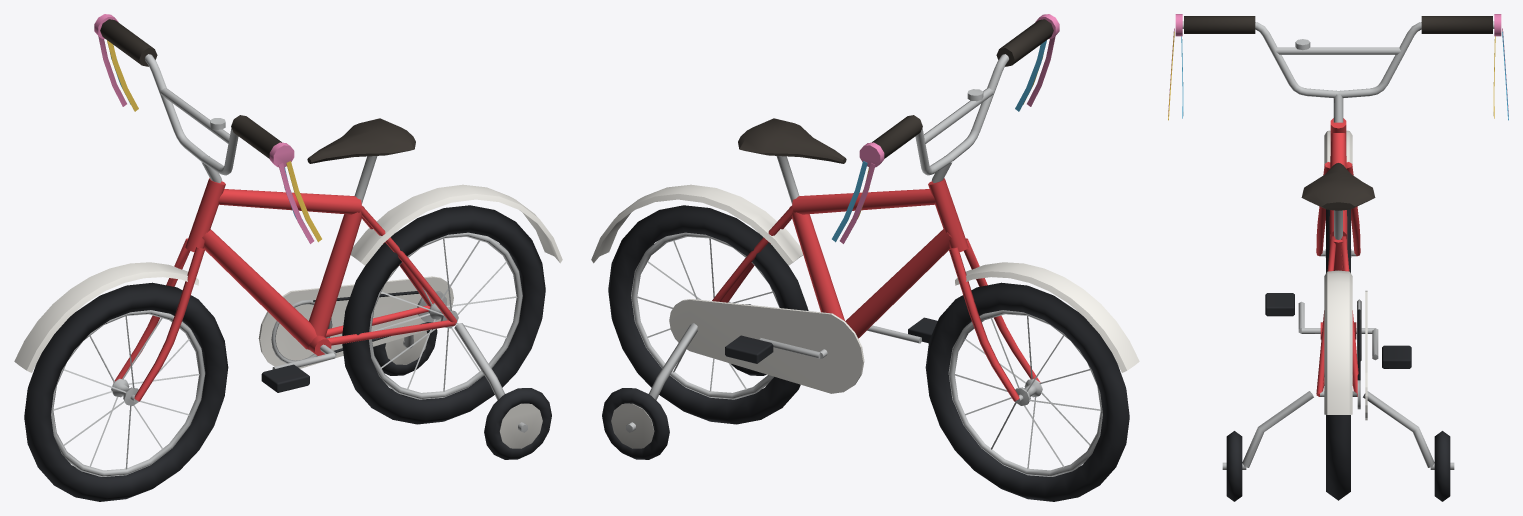
The model's file is bicycleChild.glb.
The picture shows the model from 3 angles, left to right: view 1: azimuth 30°, elevation 25°; view 2: azimuth 150°, elevation 25°; view 3: azimuth 270°, elevation 25°; orthographic projection. The views are drawn at different scales.
Parts seen in each view (by area): view 1: frame, wheel_front, wheel_rear, cranks; view 2: frame, wheel_front, wheel_rear, cranks; view 3: frame, cranks, wheel_rear, wheel_front.
Part boxes in pixels (x1,y1,x2,y2): frame: (14, 14, 562, 459); wheel_front: (24, 282, 228, 501); wheel_rear: (342, 205, 545, 424); cranks: (261, 299, 336, 392); frame: (591, 14, 1139, 459); wheel_front: (925, 282, 1129, 501); wheel_rear: (608, 205, 808, 424); cranks: (725, 317, 937, 363); frame: (1168, 14, 1508, 501); cranks: (1265, 293, 1411, 368); wheel_rear: (1320, 391, 1356, 500); wheel_front: (1320, 209, 1356, 272).
Size of the model in its own units: 0.9489 by 0.679 by 0.5735.
